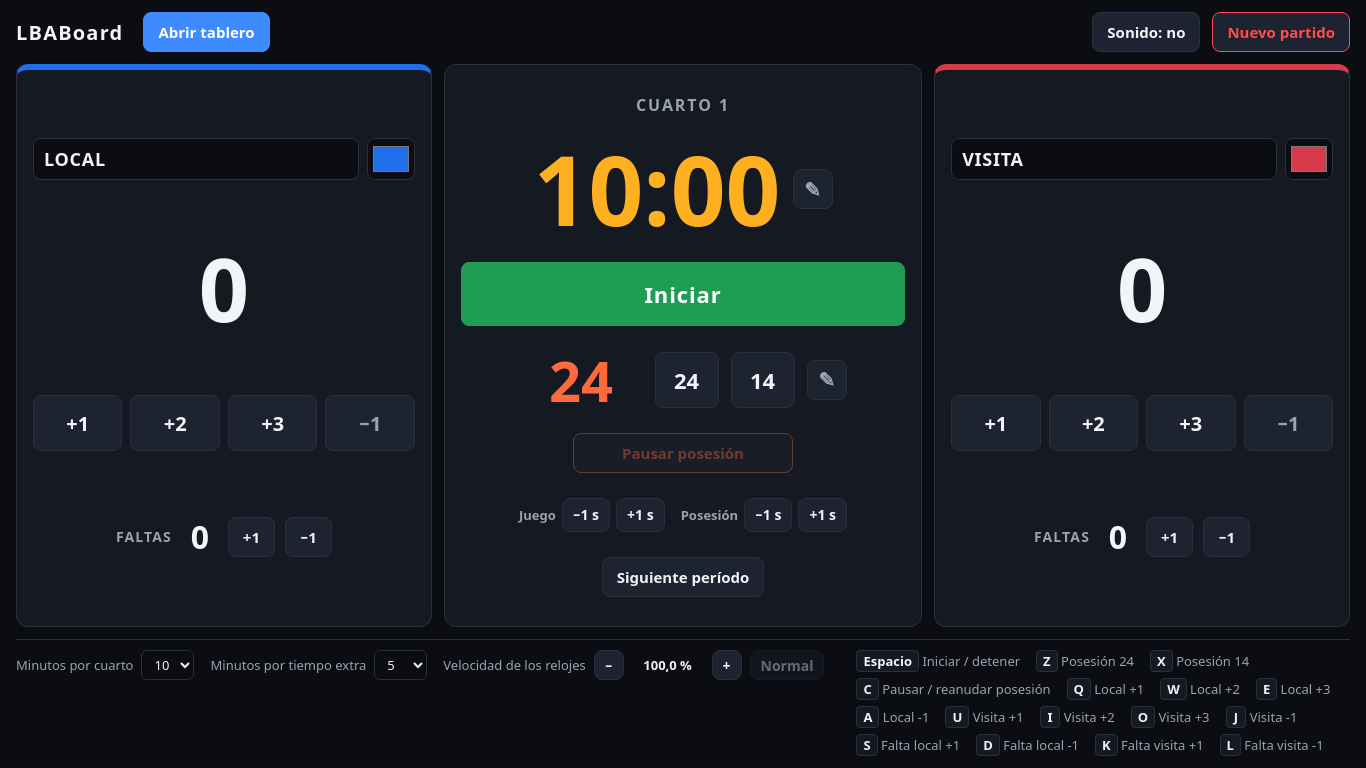
Test case: Control › remembers the sound setting
Click the button "Sonido: no" at x=1146, y=32, box top-left (1092, 12), bottom-right (1200, 52)
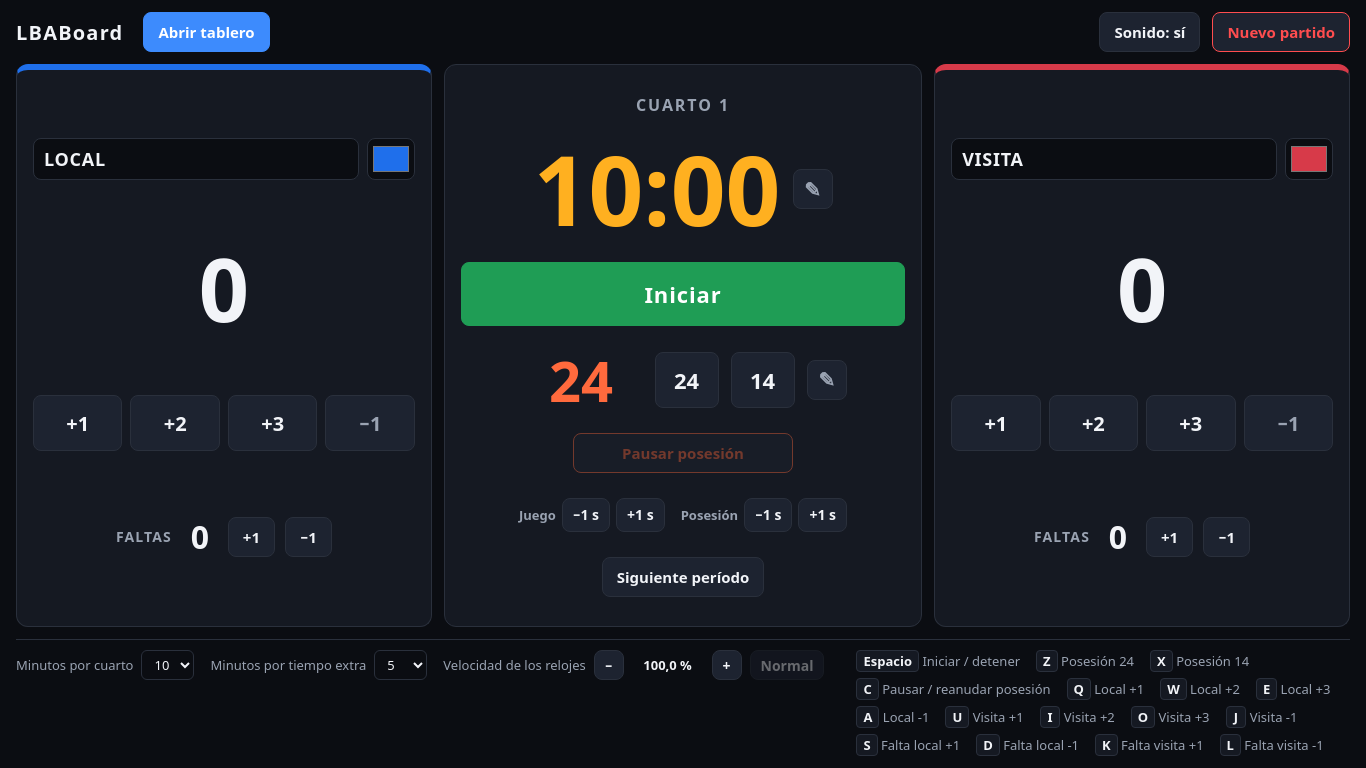
Result: the button "Sonido: sí" is shown at top-left (1100, 12), bottom-right (1200, 52)
